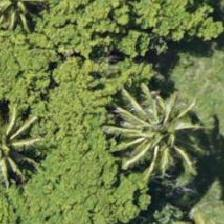coconut_tree: (100, 82, 190, 172), (0, 101, 48, 191), (0, 0, 66, 50)
